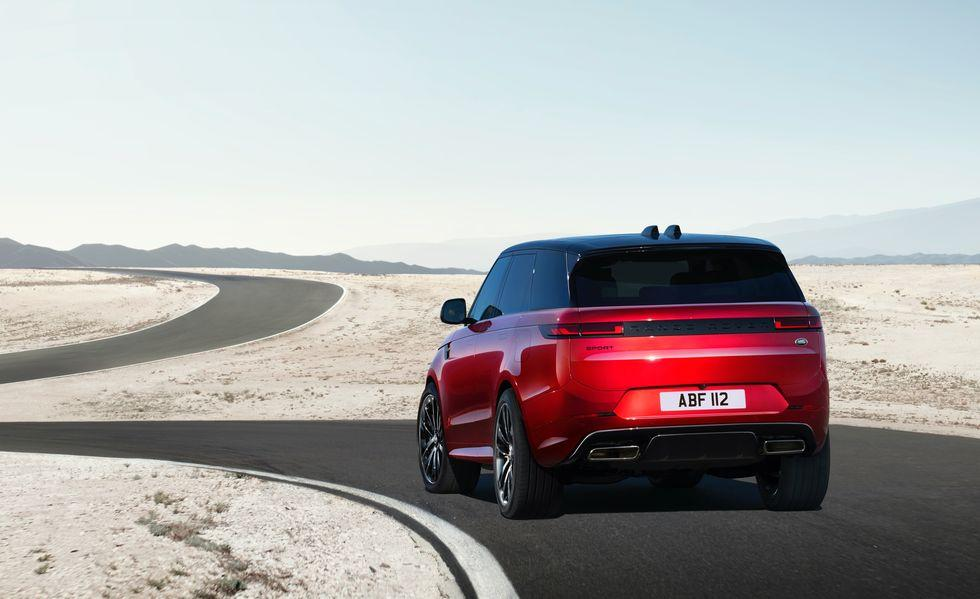range rover: (623, 314, 777, 341)
